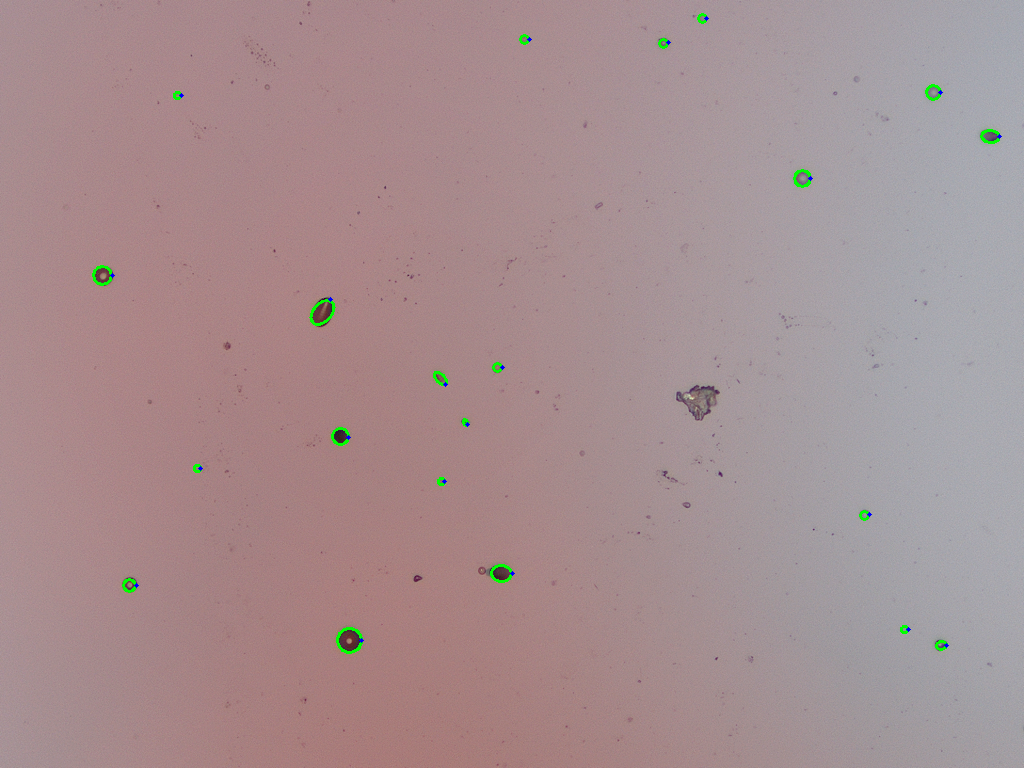circle: (337, 628, 361, 653), (92, 266, 112, 285), (794, 169, 810, 186), (332, 428, 348, 444), (926, 85, 940, 100), (122, 578, 136, 591), (492, 362, 502, 372), (658, 38, 668, 47), (519, 35, 529, 44), (859, 510, 869, 519), (698, 14, 706, 22), (174, 91, 181, 98), (437, 478, 444, 485), (193, 464, 200, 471), (901, 626, 908, 632)
ellipse: (311, 297, 333, 327), (488, 564, 513, 581), (979, 129, 1000, 143), (434, 370, 447, 385), (934, 640, 948, 651), (460, 418, 469, 425)
